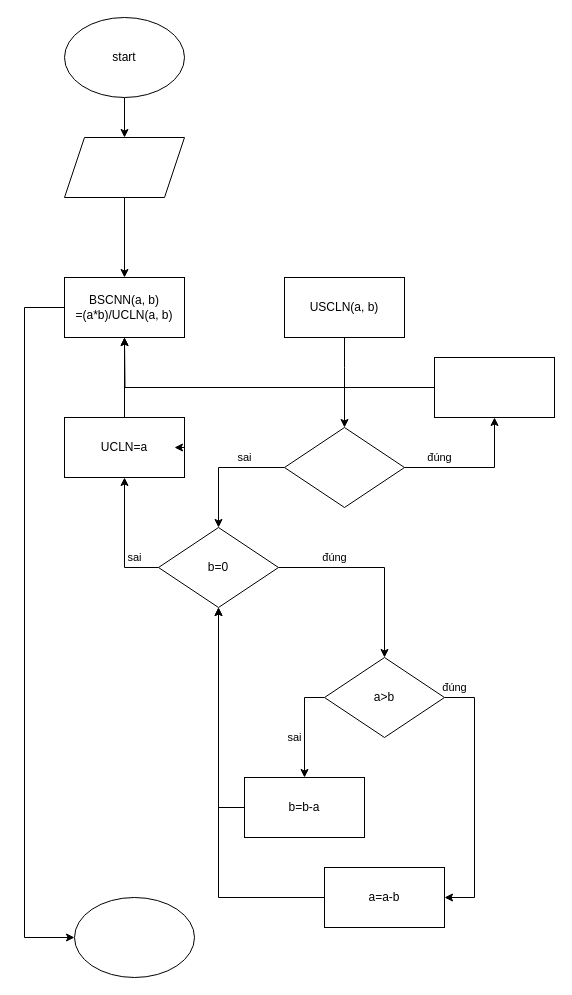
Some shapes in this 572 by 995 pixel diagram are drawn without their labels. The shapes that lost their labels are listed below. From the top down, each one's centre as x and y in pixels, then its label:
pixel 124 167: nhập a,b
pixel 494 387: UCLN=b
pixel 344 467: a=0
pixel 134 937: end
